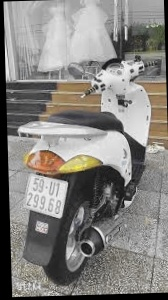Bien-so: (19, 171, 72, 222)
